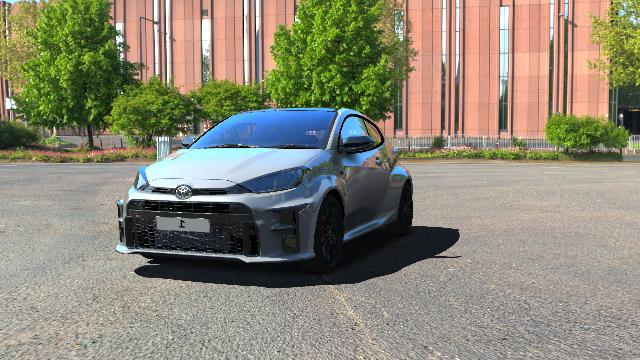License Plate: (156, 218, 208, 232)
